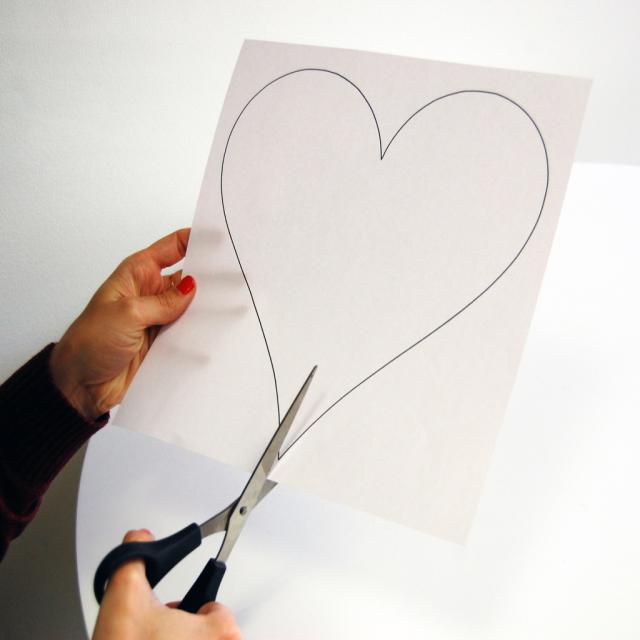scissors: (93, 363, 318, 614)
